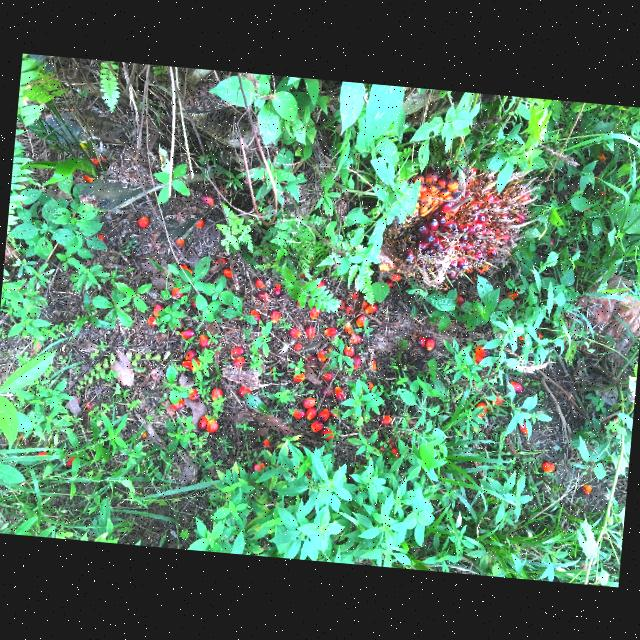Ripe: (378, 171, 520, 288)
